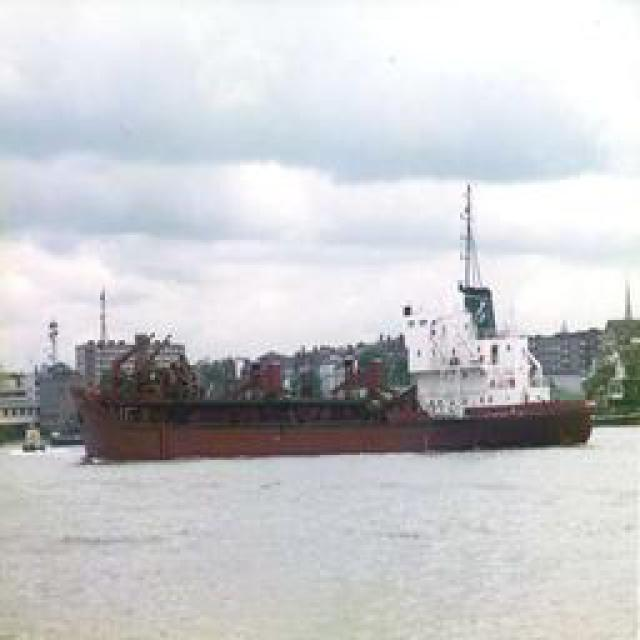Ship: (75, 327, 595, 447)
